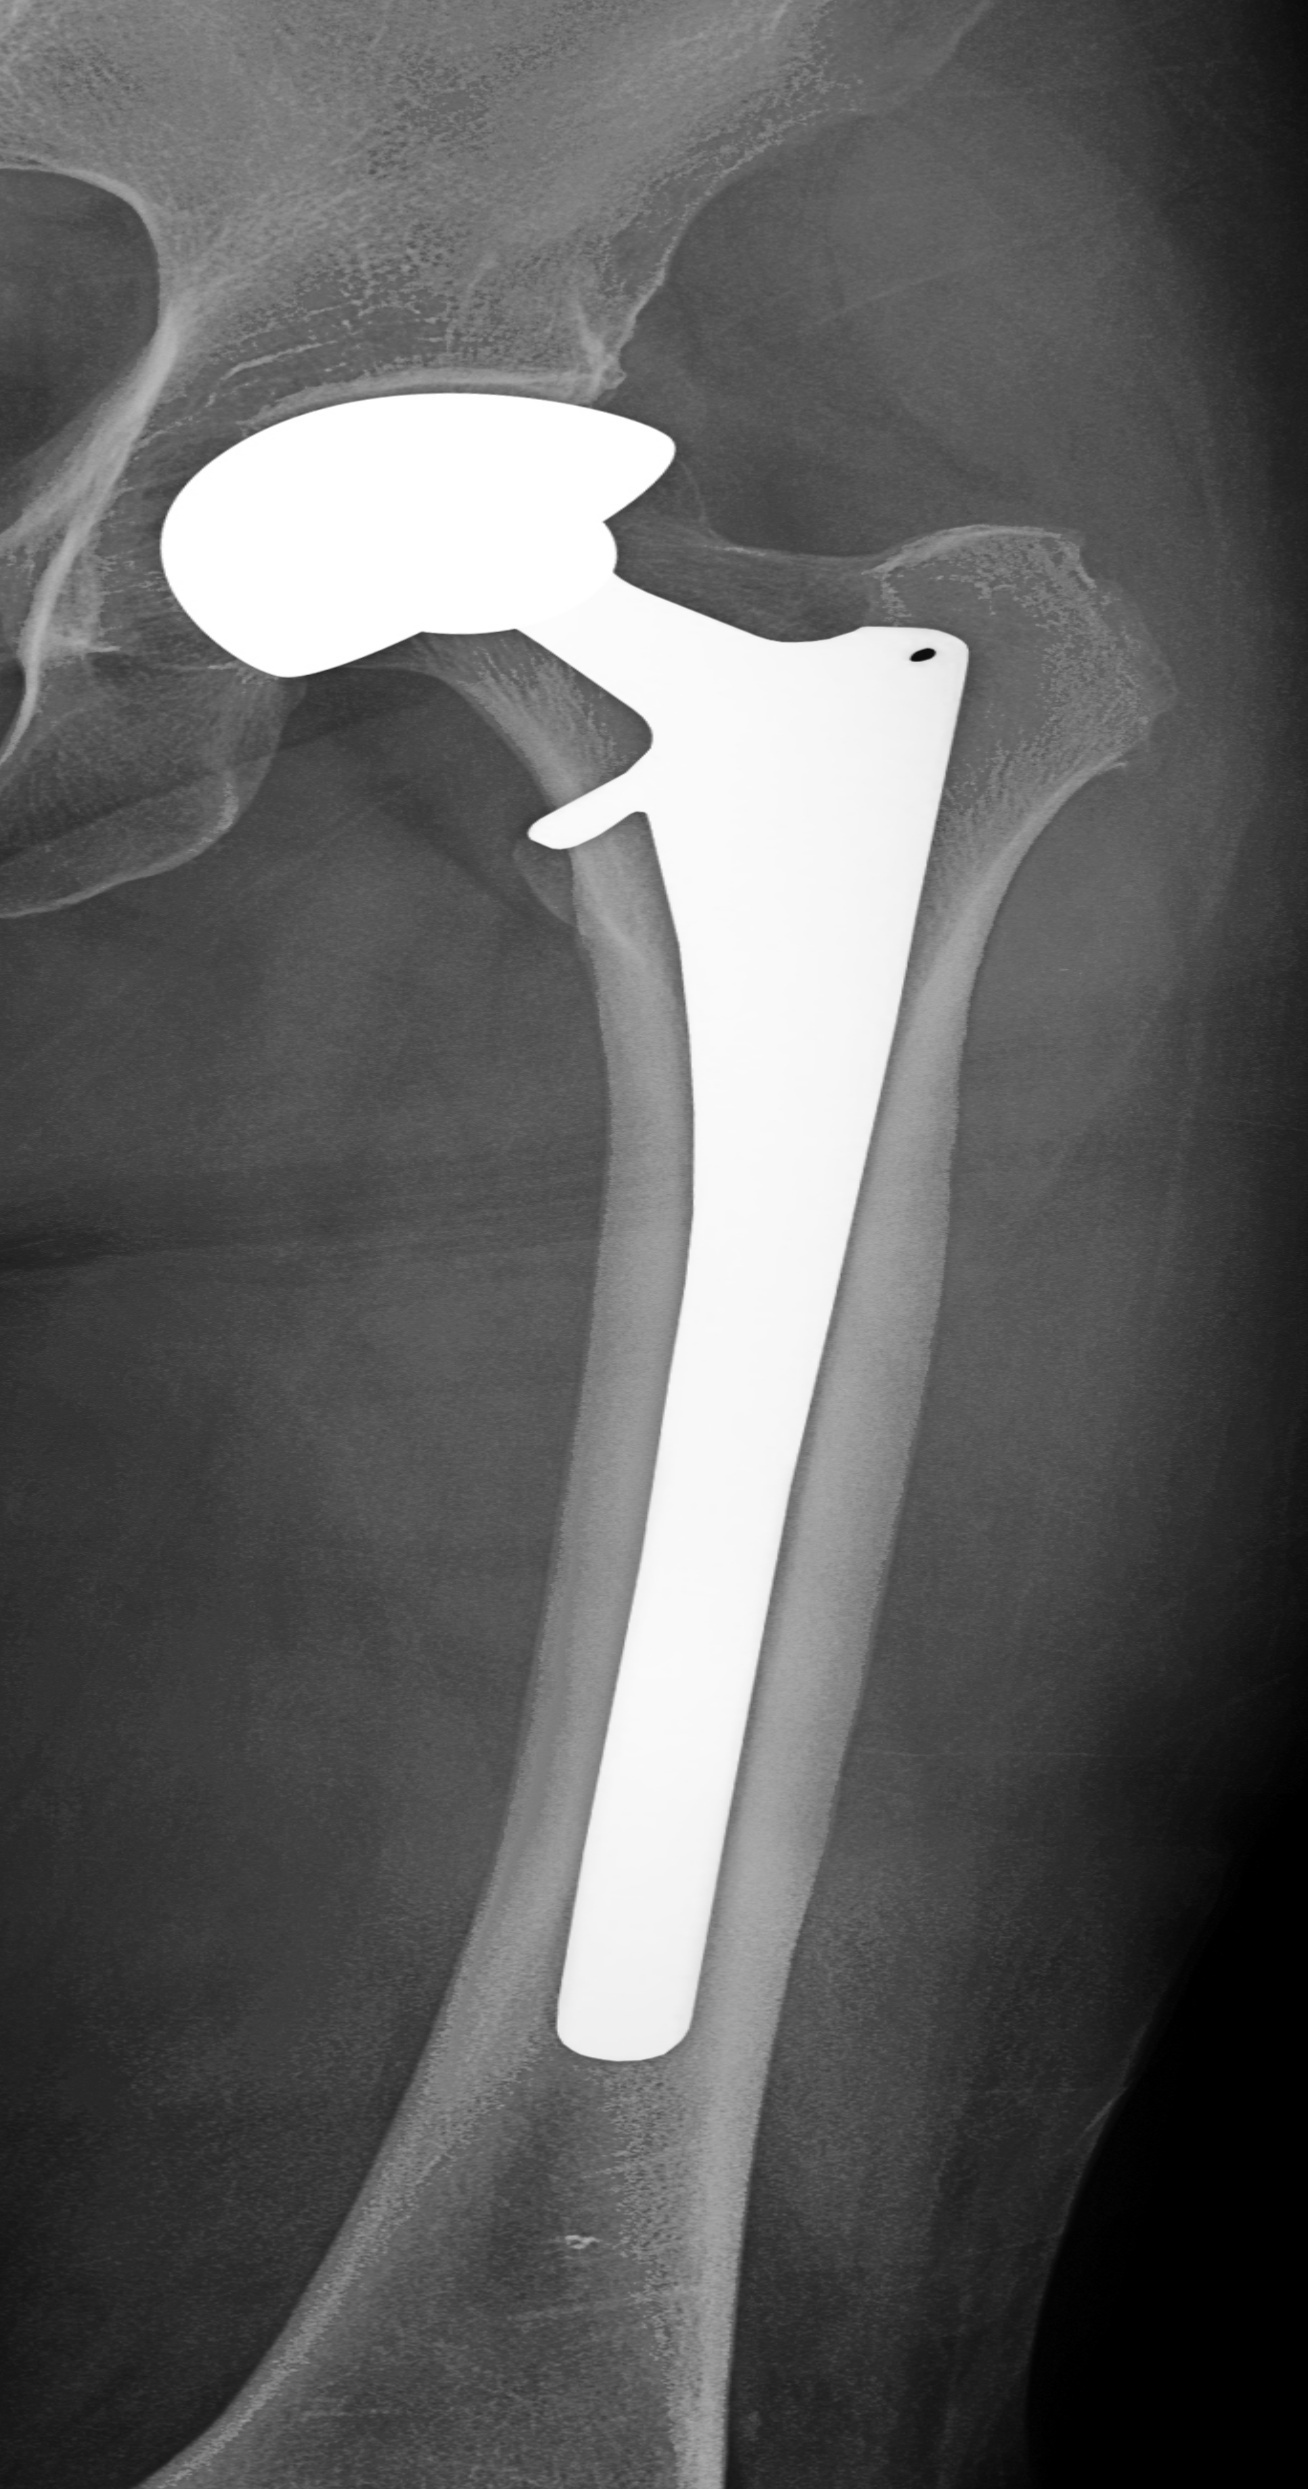Hip-Bias-Zimmer: (105, 374, 972, 2064)
